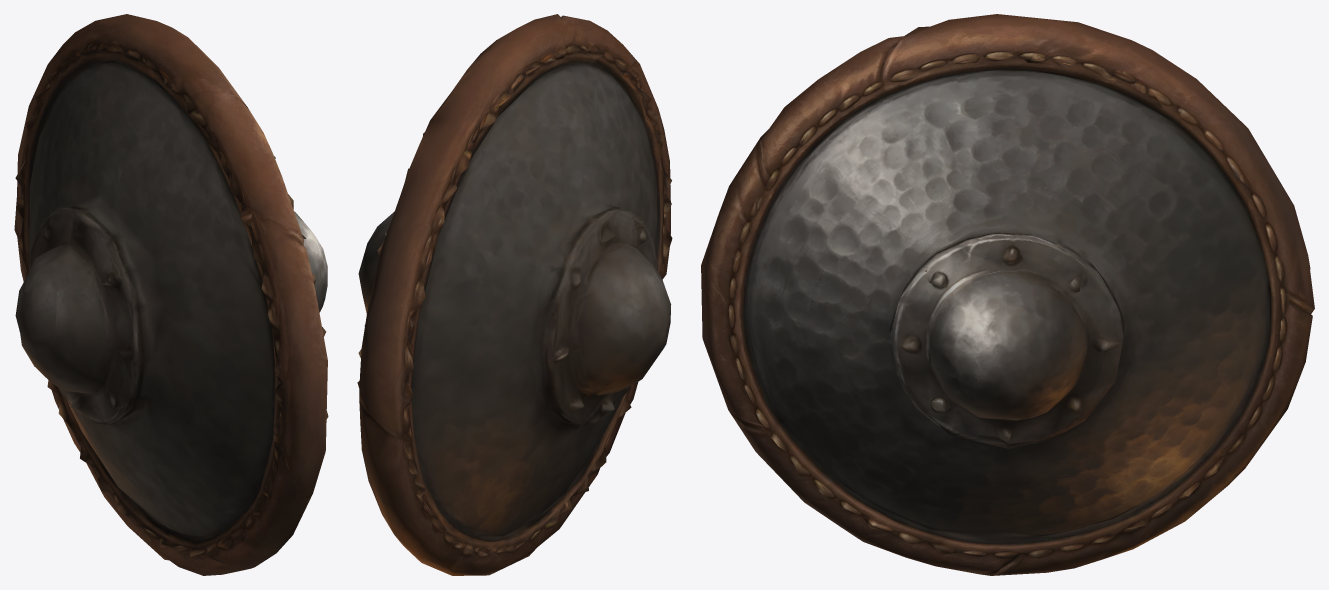
File: escudo-pequeno.glb
3 views of the same model, side by side, from view 1: azimuth 30°, elevation 25°; view 2: azimuth 150°, elevation 25°; view 3: azimuth 270°, elevation 25° (orthographic). The views are drawn at different scales.
Parts seen in each view (by area): view 1: tripo_node_f32e093c-4e51-432a-a567-0c6671c33205; view 2: tripo_node_f32e093c-4e51-432a-a567-0c6671c33205; view 3: tripo_node_f32e093c-4e51-432a-a567-0c6671c33205.
Boxes of the visible parts, left/top/right/bottom form: tripo_node_f32e093c-4e51-432a-a567-0c6671c33205: left=14, top=14, right=328, bottom=575; tripo_node_f32e093c-4e51-432a-a567-0c6671c33205: left=357, top=14, right=672, bottom=575; tripo_node_f32e093c-4e51-432a-a567-0c6671c33205: left=701, top=14, right=1314, bottom=575.
Bounding box in the file's own units: 0.5817 × 1 × 1.01.
Materials: 1 (1 with a texture image).
